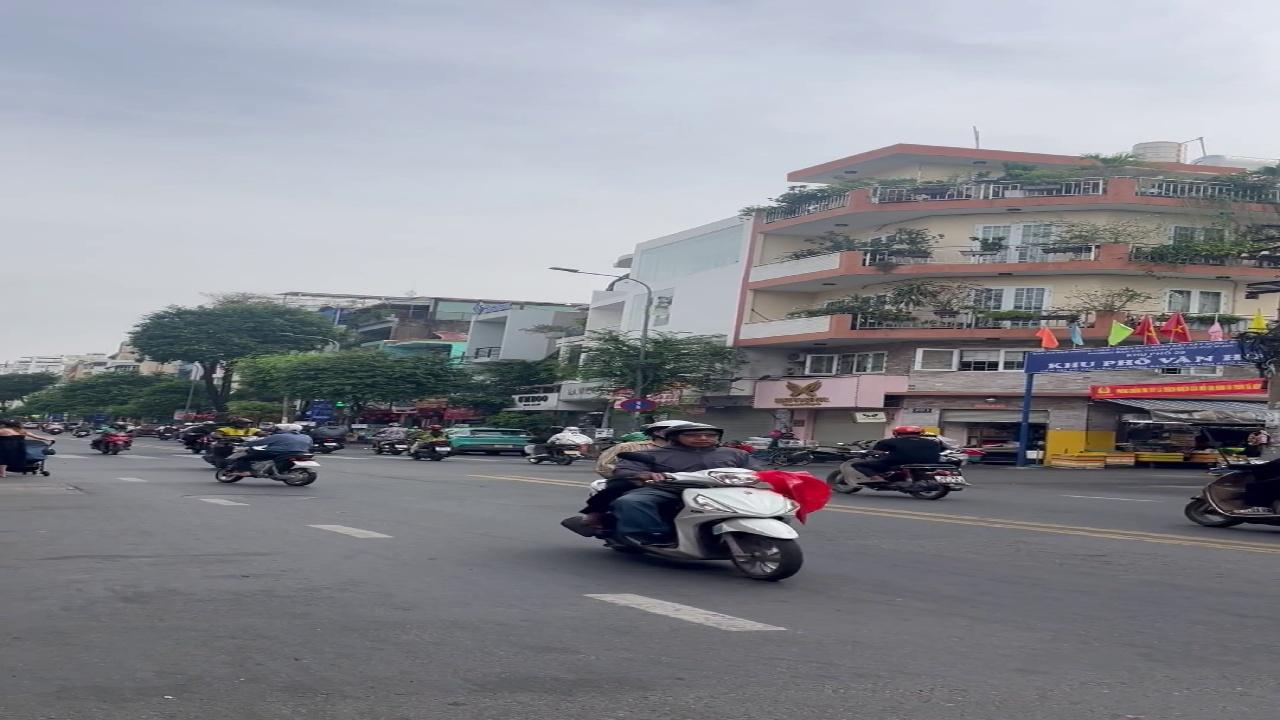Helmet: (612, 423, 759, 545), (580, 420, 693, 527), (852, 425, 947, 484), (231, 424, 311, 476), (209, 417, 261, 458), (408, 425, 446, 451)
Motor: (562, 468, 802, 580), (827, 450, 968, 499), (1184, 462, 1279, 527), (249, 453, 319, 485), (202, 437, 244, 468), (526, 444, 584, 465), (767, 446, 813, 465), (94, 432, 132, 454), (410, 440, 449, 460), (372, 439, 409, 455), (183, 435, 210, 453), (313, 438, 344, 453), (156, 428, 175, 440), (72, 428, 92, 438), (44, 425, 64, 435)
